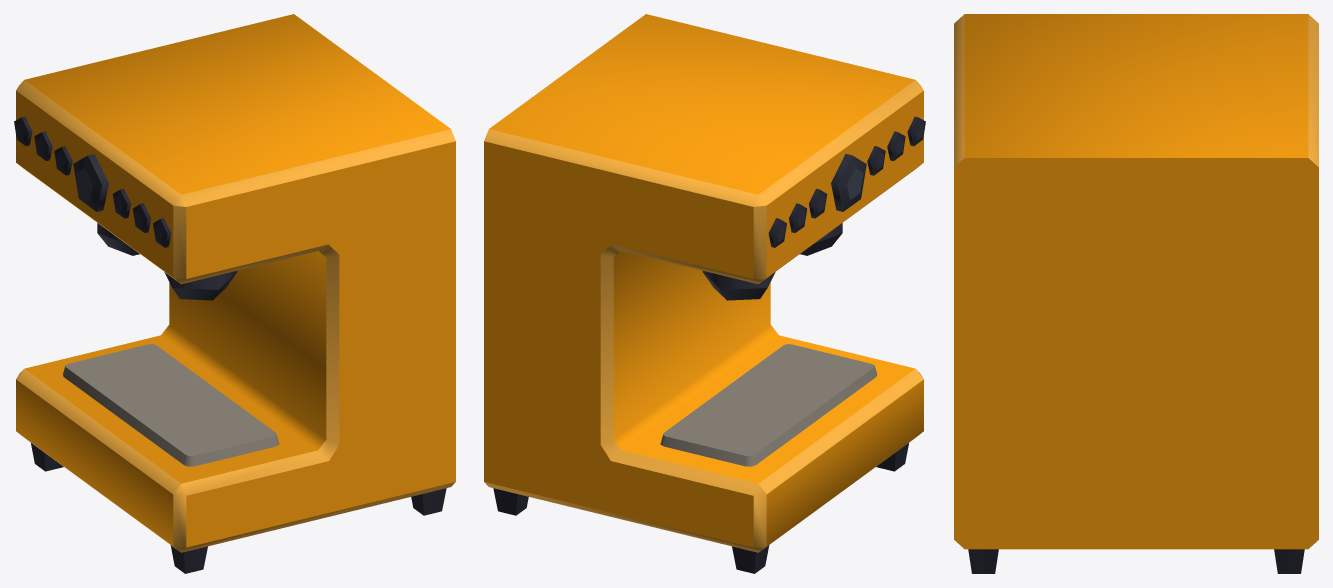
The model's file is CoffeeMachine_1_D.fbx.
3 views of the same model, side by side, from view 1: azimuth 30°, elevation 25°; view 2: azimuth 150°, elevation 25°; view 3: azimuth 270°, elevation 25° (orthographic). The views are drawn at different scales.
Parts seen in each view (by area): view 1: CoffeeMachine_1_D; view 2: CoffeeMachine_1_D; view 3: CoffeeMachine_1_D.
Part boxes in pixels (x1,y1,x2,y2): CoffeeMachine_1_D: (14,14,455,573); CoffeeMachine_1_D: (484,14,925,573); CoffeeMachine_1_D: (954,14,1318,573).
Bounding box in the file's own units: 48.51 × 61.74 × 48.68.
